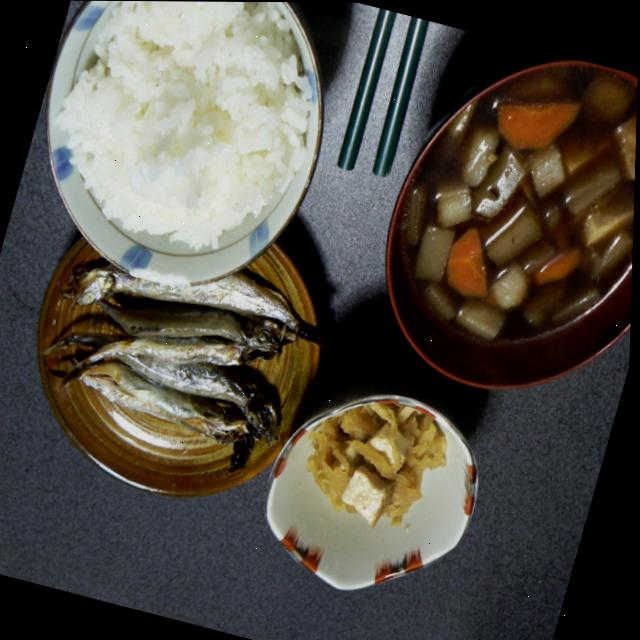米饭主食: (29, 0, 344, 280)
